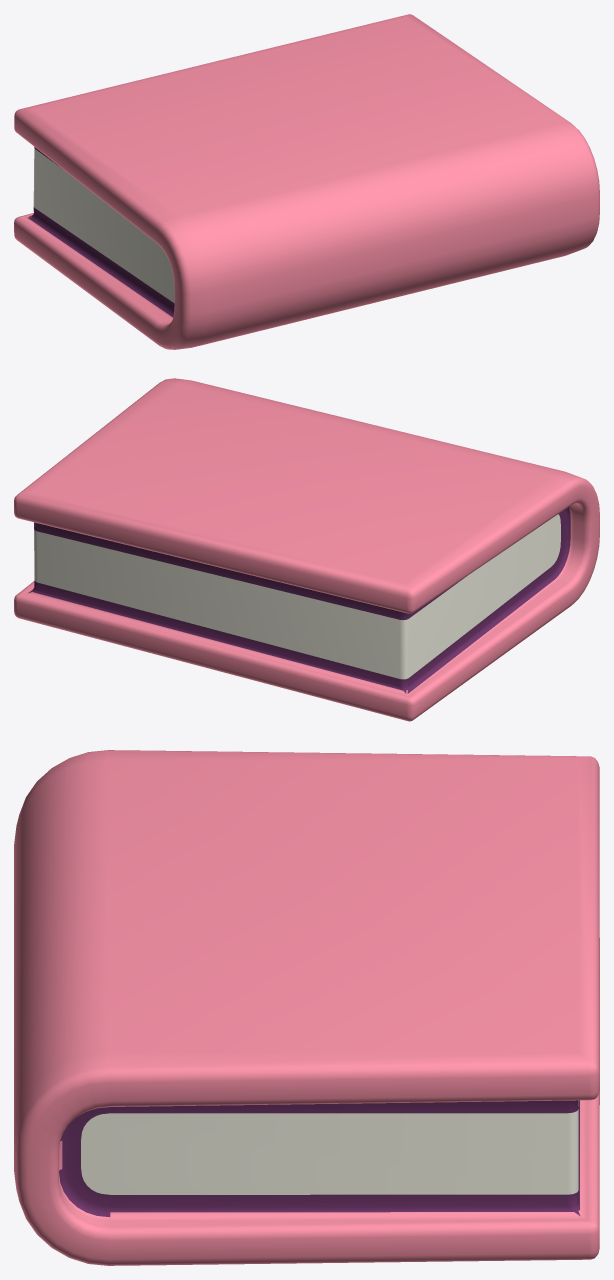
Rendered from book_pink.fbx.
The picture shows the model from 3 angles, top to bottom: view 1: azimuth 30°, elevation 25°; view 2: azimuth 150°, elevation 25°; view 3: azimuth 270°, elevation 25°; orthographic projection. The views are drawn at different scales.
Parts seen in each view (by area): view 1: Cube; view 2: Cube; view 3: Cube.
Boxes of the visible parts, x1,y1,x2,y2 form: Cube: (14, 14, 599, 349); Cube: (14, 378, 599, 721); Cube: (14, 750, 599, 1265).
Size of the model in its own units: 108 by 33.21 by 81.67.
